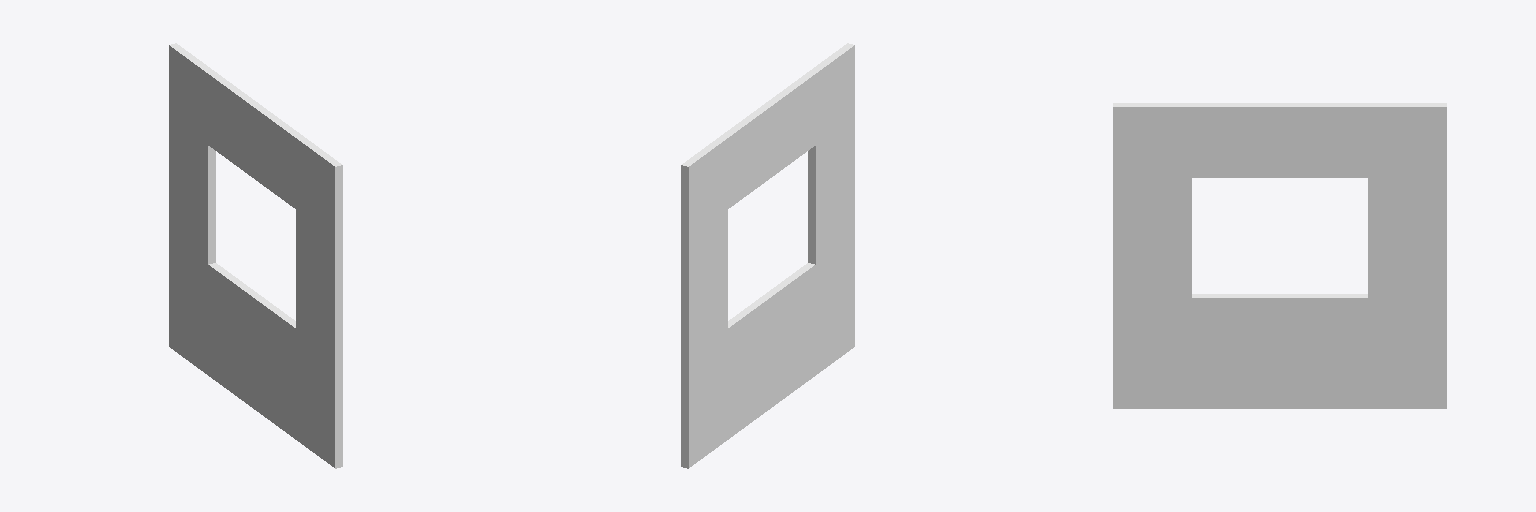
File: Kitchen-5.obj
3 views of the same model, side by side, from view 1: azimuth 30°, elevation 25°; view 2: azimuth 150°, elevation 25°; view 3: azimuth 270°, elevation 25° (orthographic).
Parts seen in each view (by area): view 1: object 1; view 2: object 1; view 3: object 1.
Part boxes in pixels (x1,y1,x2,y2): object 1: (169,43,342,468); object 1: (681,43,854,468); object 1: (1113,103,1446,408).
Size of the model in its own units: 0.1 by 3.8 by 3.8.